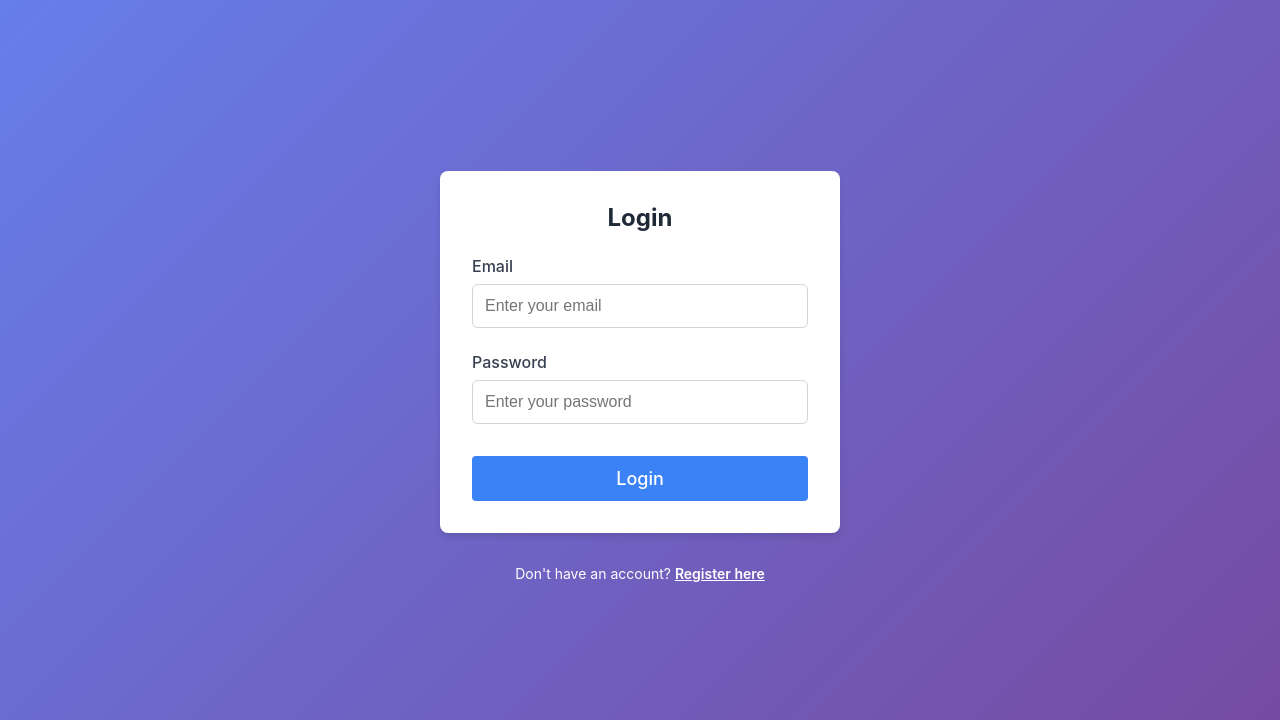
Test: Login Flow › should show validation errors for empty fields
What coordinates should you click on to do the following:
click the submit button
I would click on:
 (640, 479)
Its box is [472,456,808,501].
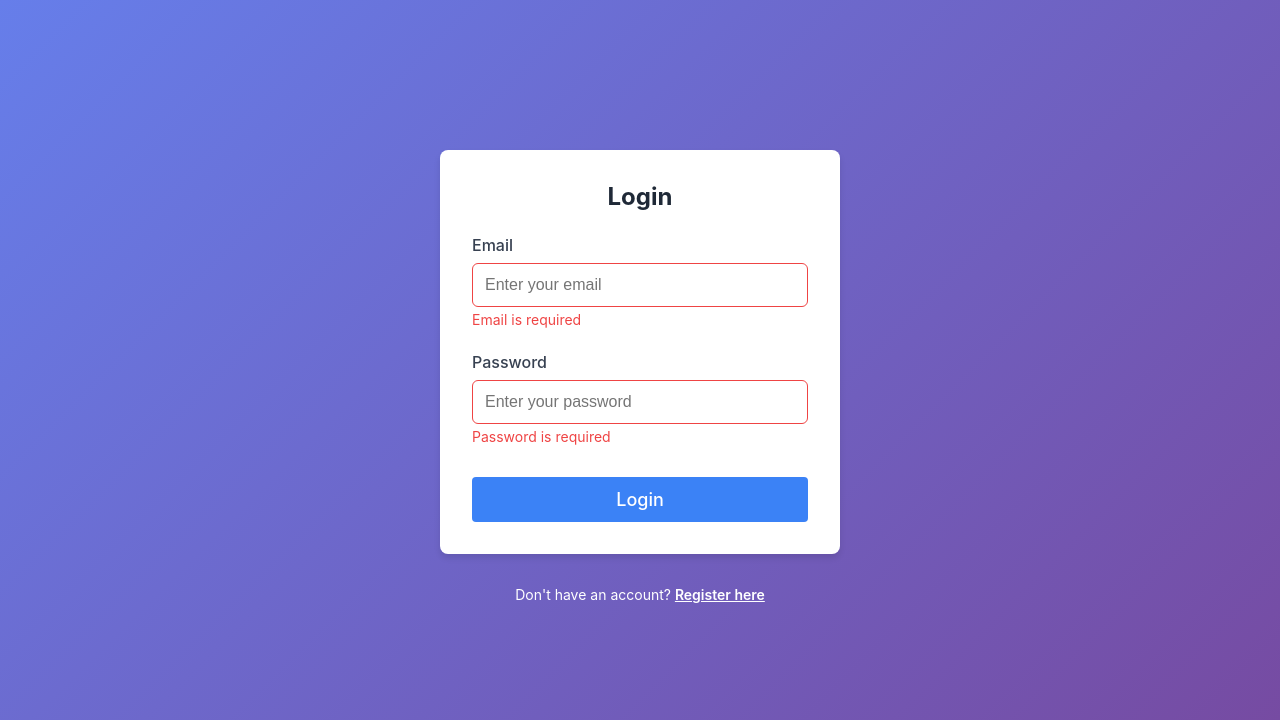
expect the text "Email is required" is shown: met, box [472,310,581,328]
expect the text "Password is required" is shown: met, box [472,428,611,444]
